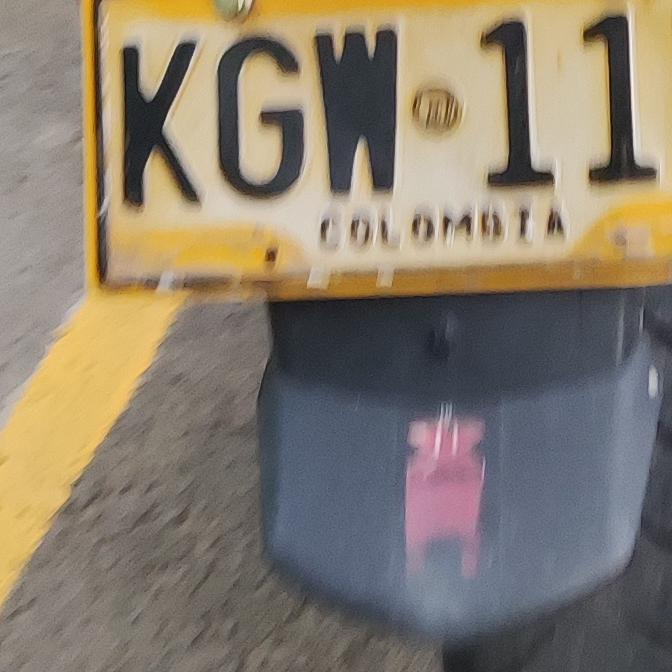plates: (78, 0, 672, 298)
